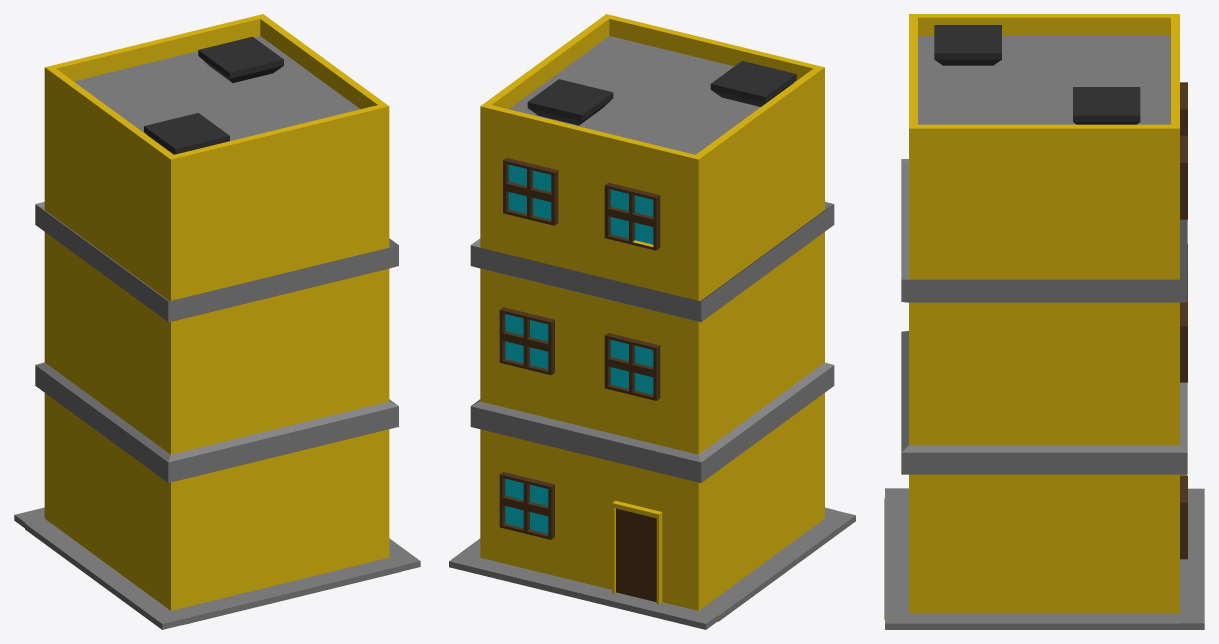
Rendered from House2.fbx.
3 views of the same model, side by side, from view 1: azimuth 30°, elevation 25°; view 2: azimuth 150°, elevation 25°; view 3: azimuth 270°, elevation 25° (orthographic). The views are drawn at different scales.
Parts seen in each view (by area): view 1: Cube; view 2: Cube; view 3: Cube.
Boxes of the visible parts, <box> form: Cube: <box>14,14,420,629</box>; Cube: <box>449,14,855,629</box>; Cube: <box>884,14,1204,629</box>.
Size of the model in its own units: 794 by 1343 by 794.
